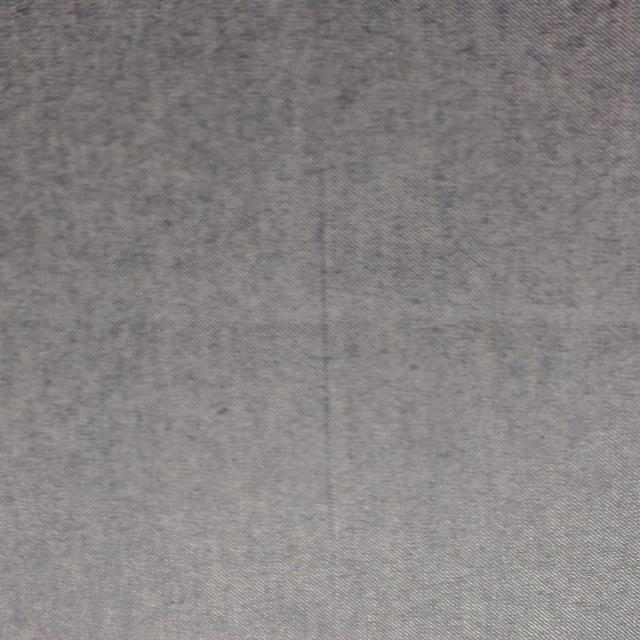Line: (313, 157, 340, 595)
